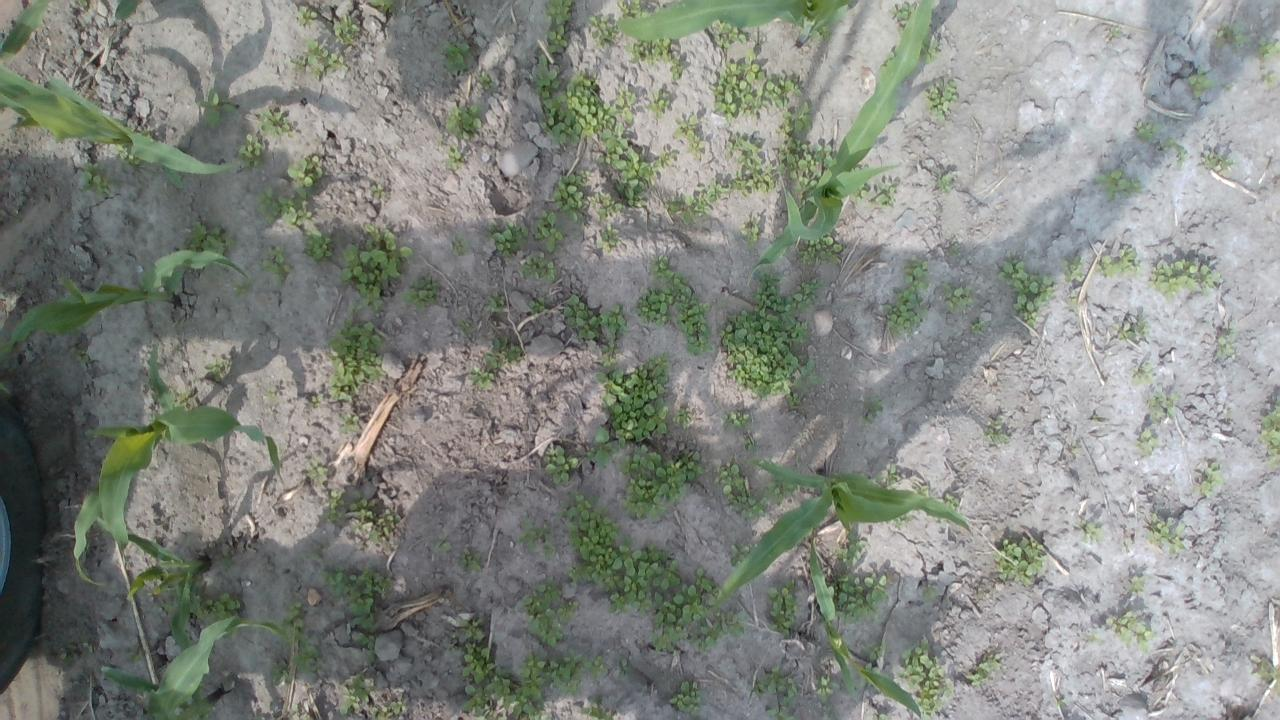Maize: (746, 0, 932, 285), (73, 343, 282, 589), (705, 453, 974, 614), (0, 57, 247, 190), (0, 248, 252, 356), (100, 617, 294, 720), (92, 508, 209, 650), (816, 602, 924, 720), (617, 0, 862, 46), (0, 0, 159, 62), (806, 530, 862, 706)
Weeds: (555, 489, 680, 615), (720, 270, 824, 408), (650, 566, 746, 657), (614, 442, 704, 521), (596, 351, 670, 447), (651, 254, 718, 358), (338, 222, 412, 314), (538, 70, 618, 150), (324, 316, 387, 406), (597, 124, 659, 210), (516, 649, 586, 720), (320, 561, 392, 630), (895, 637, 953, 715), (706, 49, 766, 124), (878, 258, 932, 341), (774, 136, 836, 208), (461, 641, 516, 720), (520, 574, 578, 648), (999, 258, 1056, 328), (722, 132, 778, 197), (826, 572, 891, 624), (714, 458, 766, 522), (662, 180, 732, 227), (991, 533, 1048, 587), (749, 665, 800, 720), (252, 185, 312, 229), (290, 38, 350, 82), (194, 590, 244, 640), (552, 169, 592, 226), (1104, 611, 1157, 654), (1146, 260, 1198, 300), (1142, 511, 1186, 558), (180, 220, 237, 255), (485, 216, 530, 260), (764, 578, 798, 635), (285, 152, 323, 200), (564, 294, 602, 342), (922, 77, 959, 124), (760, 72, 803, 112), (198, 84, 237, 128), (1094, 168, 1145, 201), (541, 444, 581, 486), (543, 0, 574, 54), (1256, 399, 1280, 468), (516, 518, 557, 558), (672, 114, 706, 162), (76, 157, 116, 197), (528, 52, 562, 99), (444, 103, 486, 140), (401, 274, 441, 312), (532, 208, 566, 252), (290, 634, 325, 676), (259, 242, 293, 285), (1094, 248, 1142, 278), (636, 286, 672, 326), (584, 426, 618, 468), (796, 235, 843, 265), (438, 40, 475, 77), (775, 100, 813, 136), (484, 335, 523, 370), (963, 652, 1003, 686), (339, 672, 371, 714), (1248, 653, 1280, 695), (1190, 461, 1226, 498), (256, 105, 294, 140), (625, 37, 670, 66), (833, 534, 868, 571), (668, 680, 704, 715), (300, 224, 334, 261), (588, 12, 622, 49), (518, 250, 558, 281), (710, 16, 750, 46), (598, 302, 630, 338), (889, 0, 920, 37), (939, 280, 974, 312), (1216, 20, 1251, 52), (764, 476, 800, 507), (233, 132, 264, 168), (369, 509, 398, 547), (614, 80, 638, 124), (350, 490, 374, 534), (279, 600, 310, 634), (588, 190, 622, 221), (113, 142, 144, 173), (1147, 392, 1179, 422), (332, 13, 361, 45), (614, 0, 656, 22), (1114, 318, 1152, 342), (858, 395, 886, 427), (915, 32, 943, 64), (352, 631, 378, 664), (1200, 148, 1234, 173), (984, 417, 1013, 446), (582, 692, 612, 720), (1133, 428, 1161, 458), (872, 462, 902, 490), (1188, 66, 1214, 98), (1162, 139, 1190, 168), (321, 490, 344, 524), (458, 616, 488, 642), (646, 90, 674, 117), (813, 674, 839, 703), (270, 658, 296, 686), (370, 701, 408, 720), (739, 217, 762, 248), (872, 180, 898, 207), (1218, 324, 1238, 358), (596, 226, 622, 252), (584, 654, 608, 682), (727, 543, 756, 566), (1200, 264, 1222, 294), (459, 549, 485, 574), (596, 340, 621, 366), (293, 3, 318, 29), (1076, 519, 1103, 543), (1255, 36, 1280, 61), (1134, 121, 1162, 143), (1130, 362, 1154, 387), (859, 663, 884, 687), (1062, 255, 1084, 282), (859, 639, 886, 661), (444, 145, 466, 172), (203, 356, 230, 378), (170, 388, 198, 409), (470, 366, 496, 388), (306, 457, 326, 485), (720, 412, 751, 430), (484, 290, 507, 314), (933, 166, 954, 192), (888, 510, 916, 528), (448, 234, 470, 256), (809, 22, 832, 43), (476, 70, 498, 90), (669, 56, 686, 81), (1128, 574, 1149, 594), (368, 182, 389, 202), (674, 409, 696, 428), (528, 294, 548, 314), (455, 315, 475, 335), (660, 146, 678, 168), (1261, 68, 1280, 88), (230, 279, 250, 298), (339, 414, 360, 432), (432, 534, 452, 552), (219, 550, 237, 570), (123, 650, 145, 666), (617, 659, 635, 678), (942, 492, 959, 512), (879, 51, 896, 71), (265, 386, 281, 407), (367, 0, 400, 10), (307, 394, 326, 411), (922, 584, 938, 603), (73, 348, 92, 364), (911, 482, 930, 497), (855, 182, 868, 203), (740, 436, 756, 453), (305, 549, 325, 562), (1066, 290, 1078, 310), (160, 594, 173, 612), (972, 318, 986, 334), (1086, 632, 1104, 644), (824, 704, 838, 719), (82, 640, 96, 654), (1108, 26, 1124, 38), (1053, 697, 1069, 708), (872, 709, 888, 720), (1070, 440, 1082, 454), (70, 0, 90, 8), (948, 243, 959, 256), (60, 650, 70, 662), (850, 164, 861, 174), (434, 136, 444, 146), (448, 643, 457, 651)
